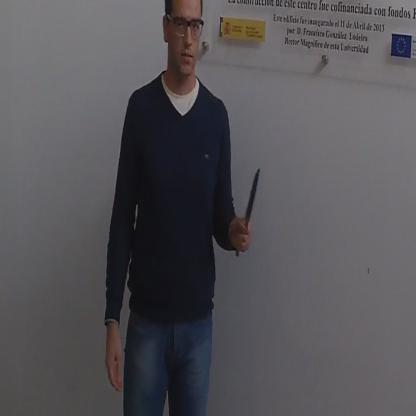knife: (233, 160, 262, 258)
